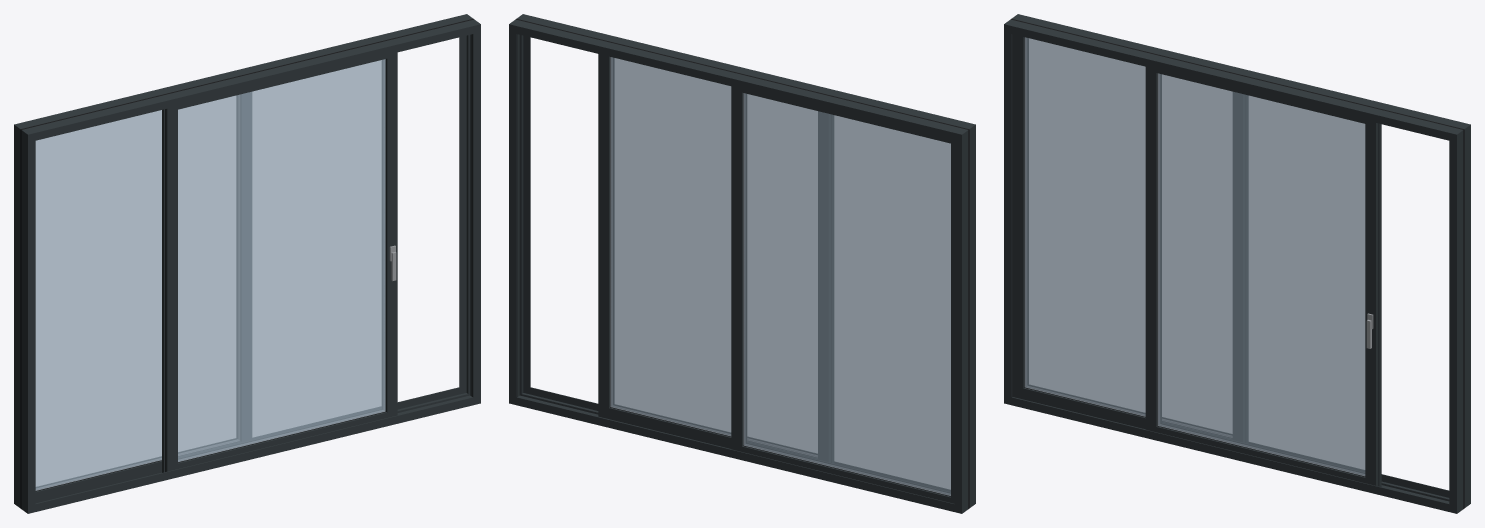
The model's file is masterpatio.glb.
3 views of the same model, side by side, from view 1: azimuth 30°, elevation 25°; view 2: azimuth 150°, elevation 25°; view 3: azimuth 330°, elevation 25° (orthographic).
Visible parts, largest first — view 1: MasterPatio; view 2: MasterPatio; view 3: MasterPatio.
Boxes of the visible parts, left/top/right/bottom form: MasterPatio: left=14, top=14, right=480, bottom=513; MasterPatio: left=509, top=14, right=975, bottom=513; MasterPatio: left=1004, top=14, right=1470, bottom=513.
Size of the model in its own units: 3 by 2.4 by 0.1713.
